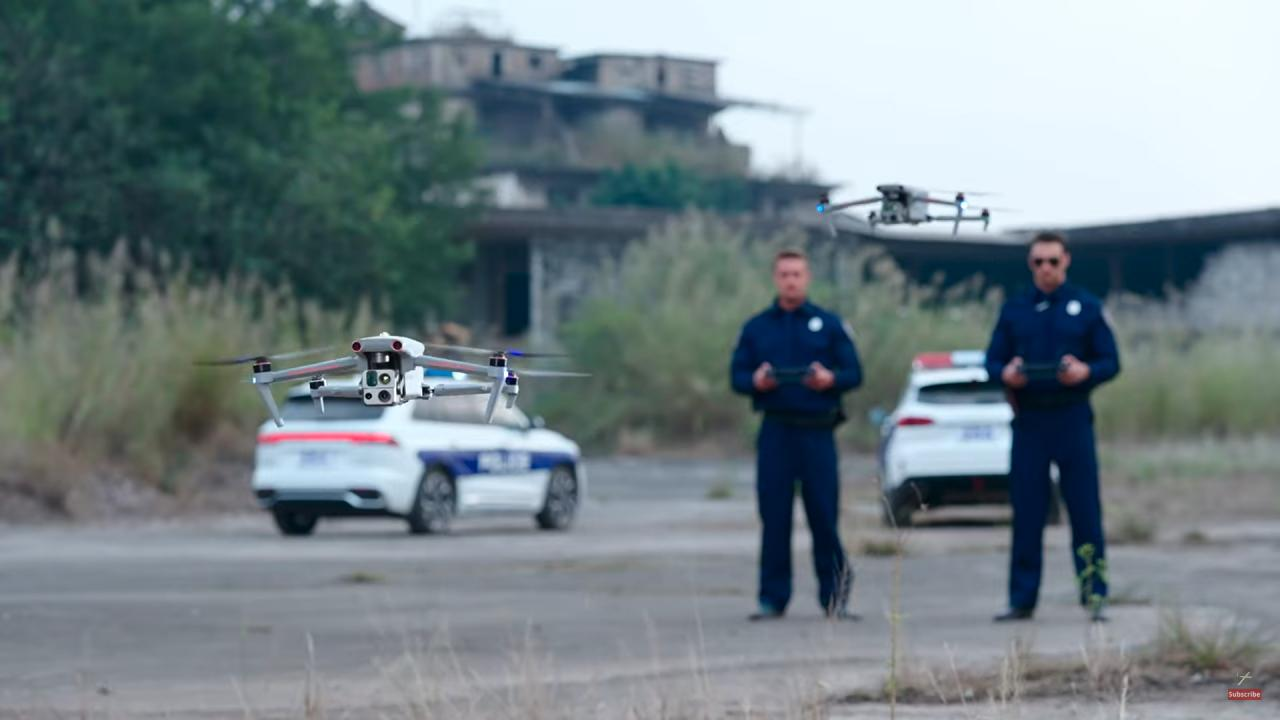Drone: (178, 320, 606, 437), (802, 166, 1024, 248)
